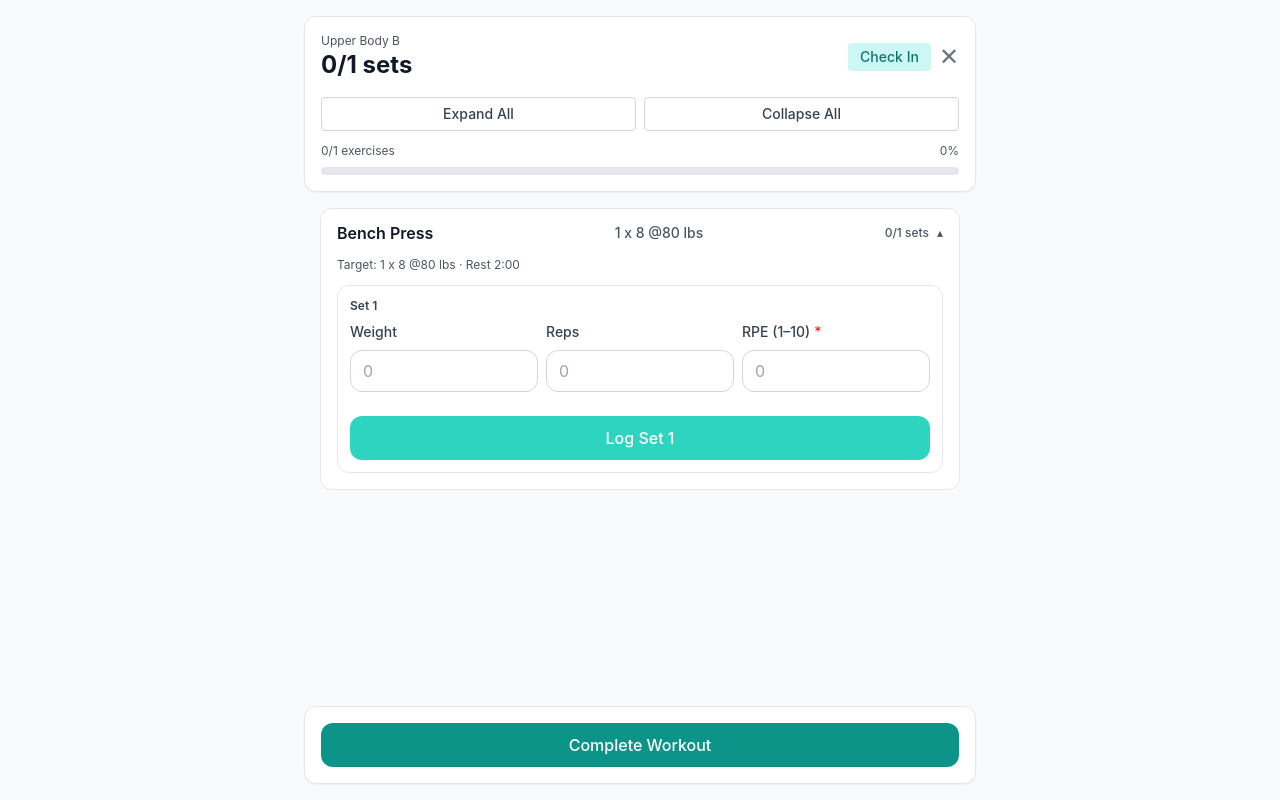
WorkoutTrackingPage › confirms before completing when a set is unlogged
The width and height of the screenshot is (1280, 800).
Click the button "Complete Workout" at [640, 745], box [321,723,959,767]
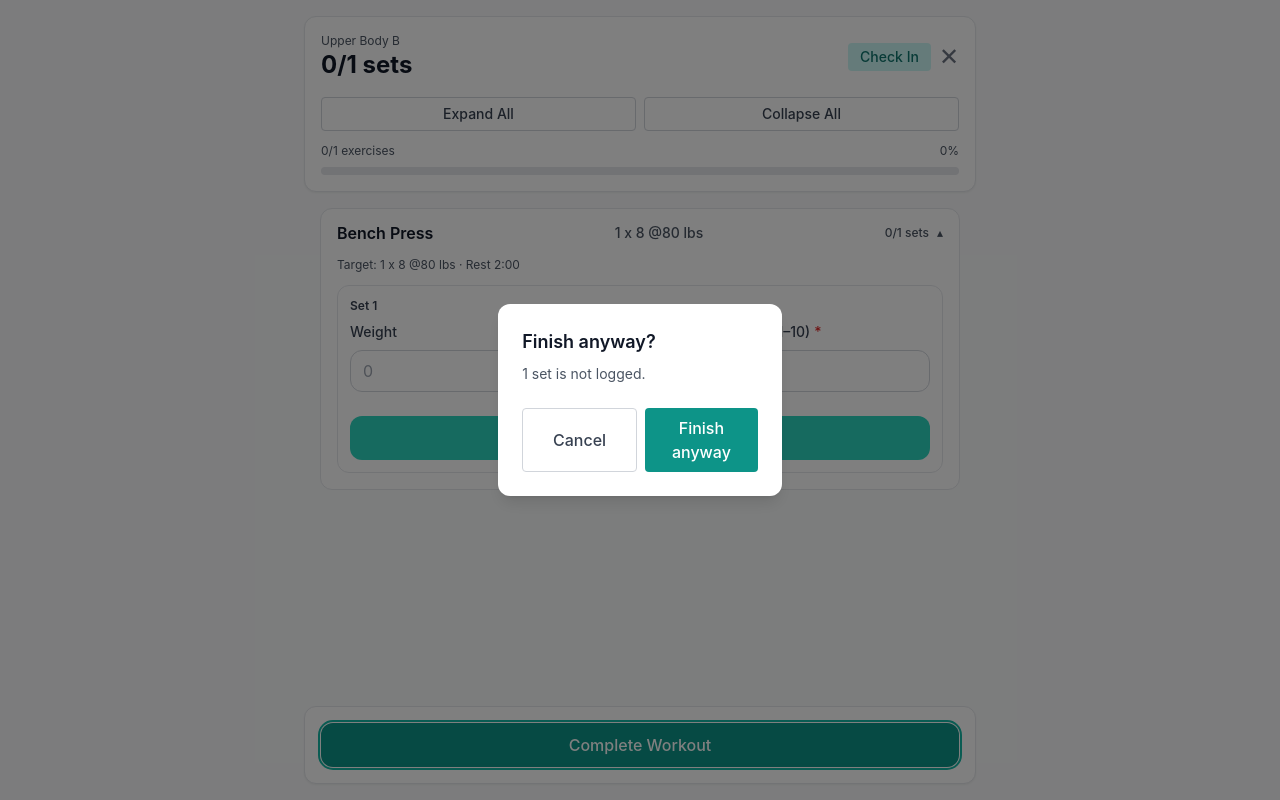
Expected: the text "1 set is not logged." is shown, [522,365,646,382]
Click the button "Cancel" at [580, 440], box [522,408,637,472]
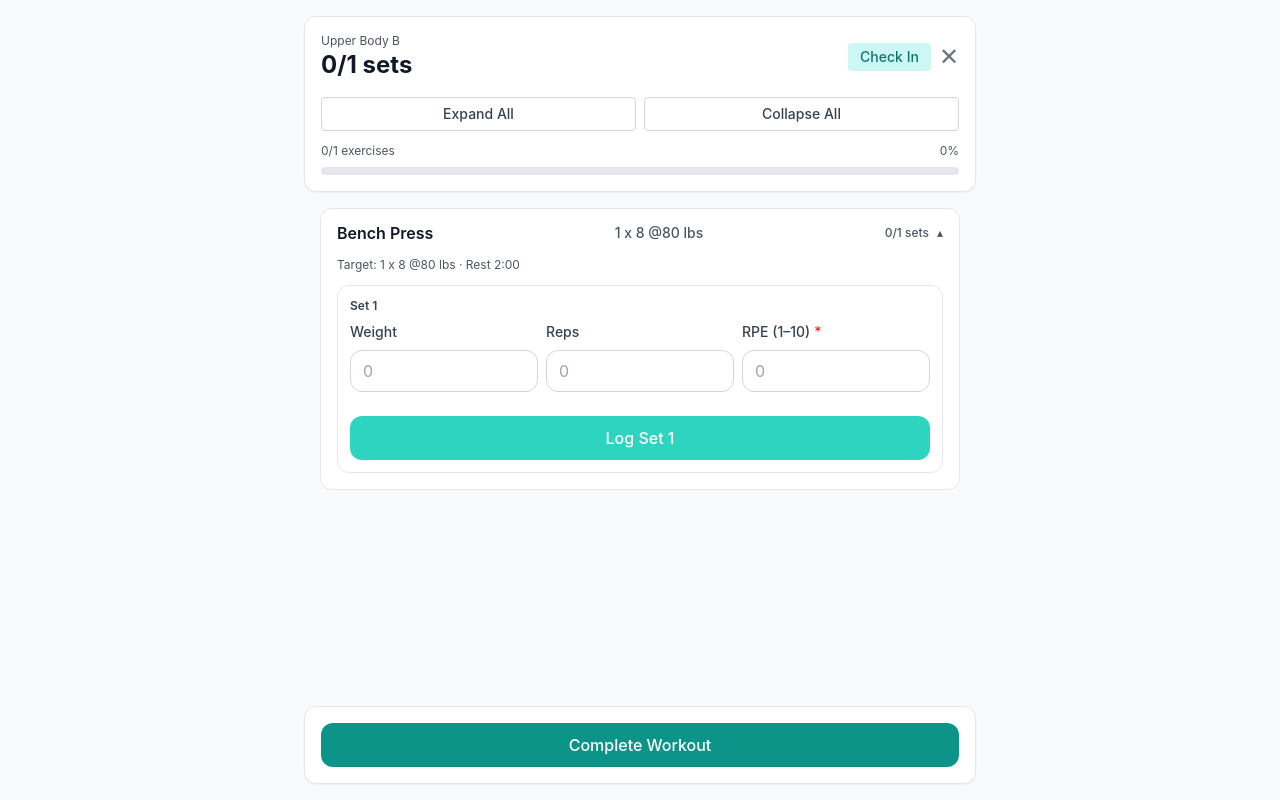
Expected: the text "how was that workout" is not shown
Click the button "Complete Workout" at [640, 745], box [321,723,959,767]
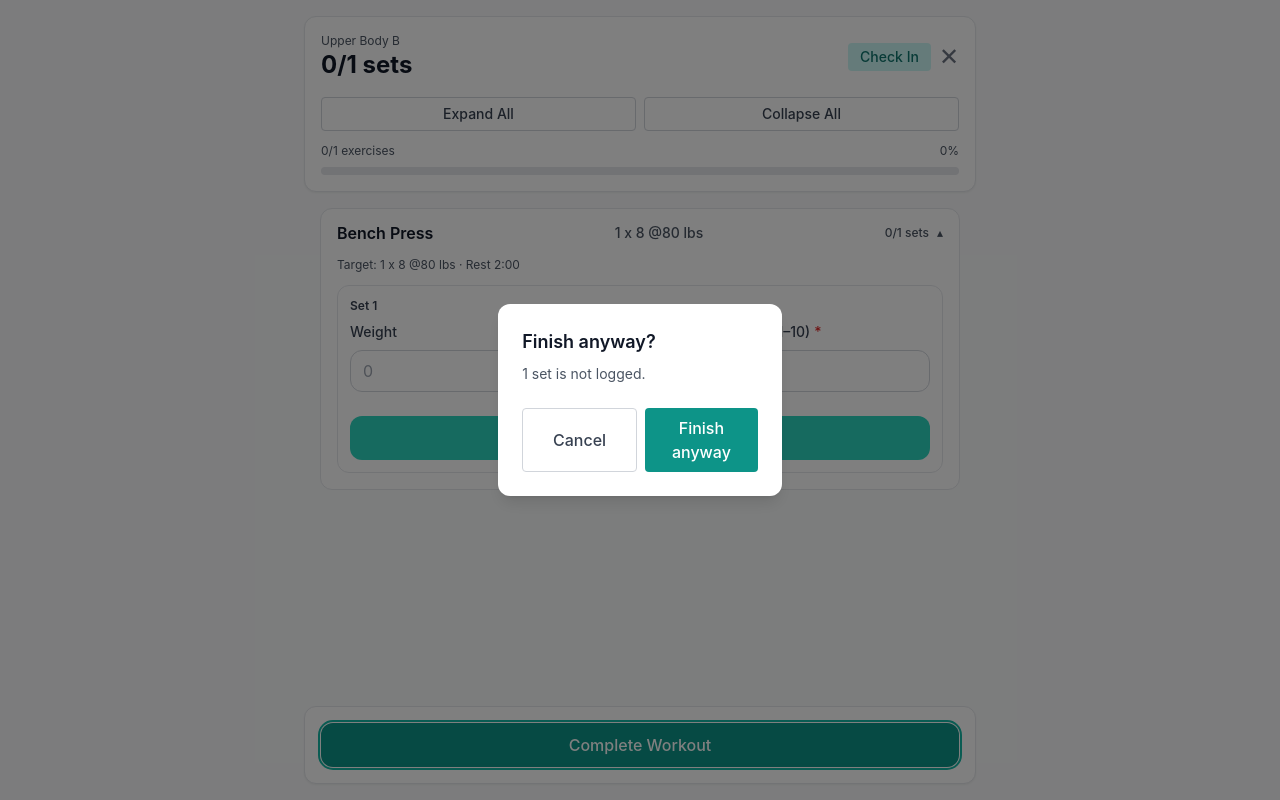
Click the button "Finish anyway" at [701, 440], box [645,408,758,472]
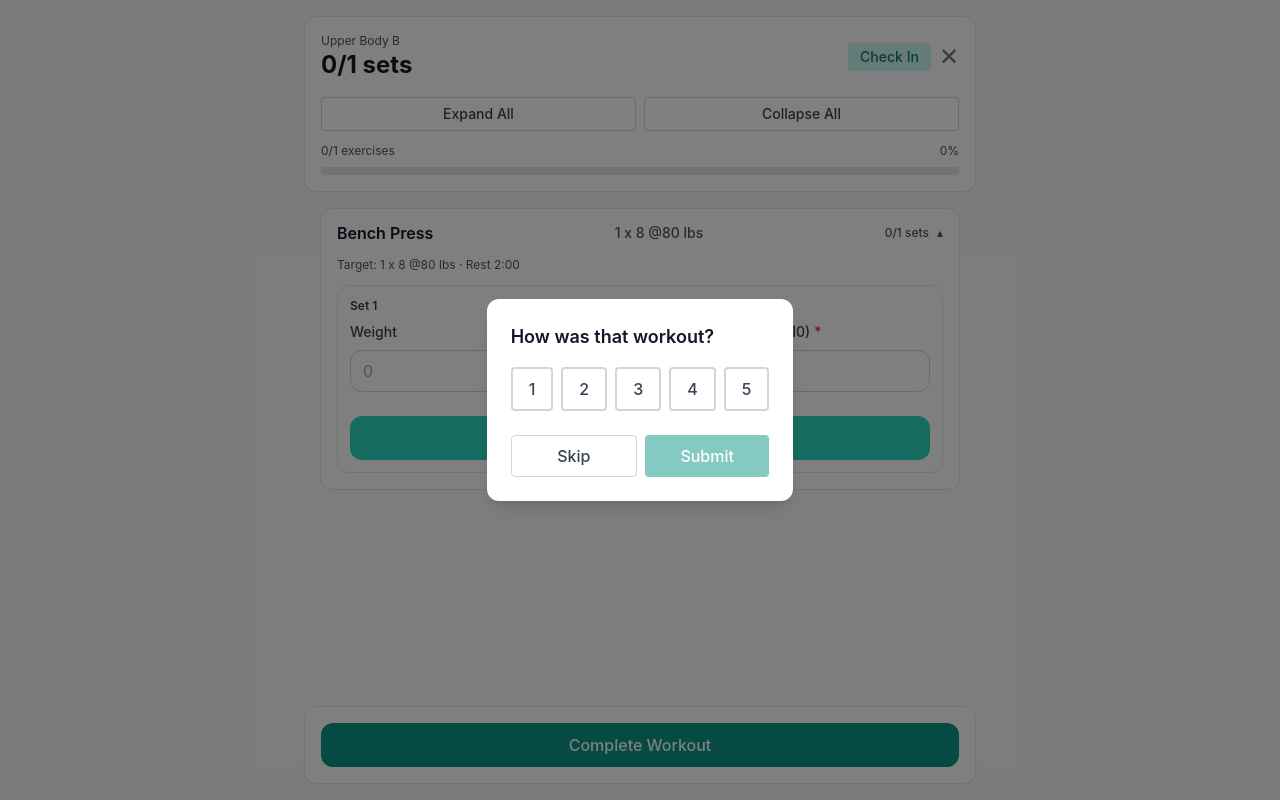
Expected: the heading "How was that workout?" is shown, [511,326,714,347]
